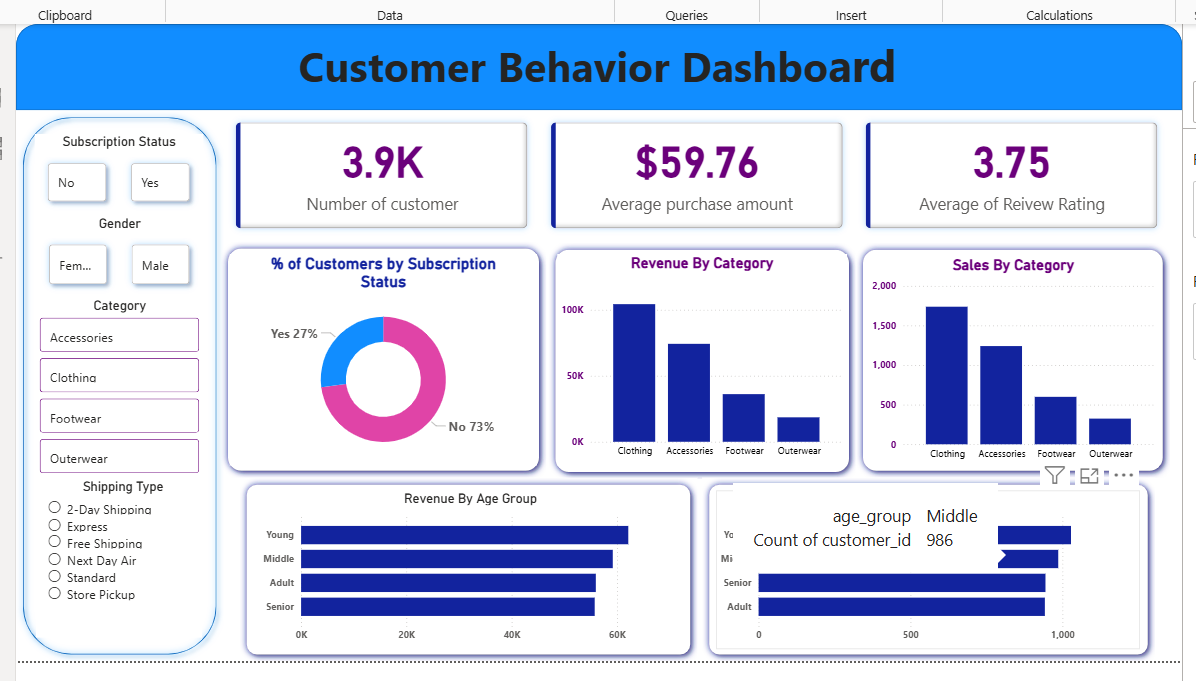

What the dashboard file says about the page in this screenshot:
{"tool":"powerbi","page":{"name":"Page 1","canvas":[1500,820],"ordinal":0},"visuals":[{"type":"cardVisual","fields":{"Data":["cleaned_data.Number of customer","cleaned_data.Average purchase amount","cleaned_data.Average of Reivew Rating"]},"box":[266.9,111,1217.3,168.8],"z":0},{"type":"shape","box":[0,0,1500.3,111],"z":1000},{"type":"textbox","box":[30.6,9.6,1434.4,101.3],"z":2000},{"type":"shape","box":[263.7,279.8,418.1,303.9],"z":3000},{"type":"donutChart","title":"% of Customers by Subscription Status","fields":{"Category":["cleaned_data.subscription_status"],"Y":["CountNonNull(cleaned_data.customer_id)"]},"box":[275,295.9,395.6,271.8],"z":4000},{"type":"shape","box":[685,281.4,395.6,303.9],"z":5000},{"type":"shape","box":[1080.6,281.4,403.6,302.3],"z":6000},{"type":"clusteredColumnChart","title":"Revenue By Category","fields":{"Y":["Sum(cleaned_data.purchase_amount)"],"Category":["cleaned_data.category"]},"box":[696.3,295.9,373.1,271.8],"z":6001},{"type":"clusteredColumnChart","title":"Sales By Category","fields":{"Category":["cleaned_data.category"],"Y":["CountNonNull(cleaned_data.customer_id)"]},"box":[1096.7,299.1,373.1,271.8],"z":6002},{"type":"shape","box":[0,111,266.9,709.2],"z":6003},{"type":"advancedSlicerVisual","title":"Subscription Status","fields":{"Values":["cleaned_data.subscription_status"]},"box":[24.1,141.5,217.1,104.5],"z":6004},{"type":"advancedSlicerVisual","title":" Gender","fields":{"Values":["cleaned_data.gender"]},"box":[25.7,246,215.5,106.1],"z":6005},{"type":"advancedSlicerVisual","title":"Category","fields":{"Values":["cleaned_data.category"]},"box":[25.7,352.2,215.5,233.2],"z":6006},{"type":"listSlicer","title":"Shipping Type","fields":{"Values":["cleaned_data.shipping_type"]},"box":[25.7,585.3,213.9,204.2],"z":6007},{"type":"shape","box":[287.8,583.7,588.6,236.4],"z":6008},{"type":"clusteredBarChart","title":"Revenue By Age Group","fields":{"Y":["Sum(cleaned_data.purchase_amount)"],"Category":["cleaned_data.age_group"]},"box":[312,599.8,545.1,204.2],"z":6009},{"type":"shape","box":[882.8,583.7,582.1,236.4],"z":6010},{"type":"shape","box":[882.8,583.6,582.1,236.4],"z":6011},{"type":"clusteredBarChart","title":"Sales By Age Group","fields":{"Category":["cleaned_data.age_group"],"Y":["CountNonNull(cleaned_data.customer_id)"]},"box":[900.5,599.8,545.1,204.2],"z":6012}]}

Visuals, with their boxes in screenshot pixels (x1, y1, x2, y2):
cardVisual - cleaned_data.Number of customer x cleaned_data.Average purchase amount: 219, 106, 1176, 239
shape: 9, 19, 1189, 106
textbox: 33, 26, 1161, 106
shape: 217, 239, 545, 478
"% of Customers by Subscription Status" donutChart: 226, 251, 537, 465
shape: 548, 240, 859, 479
shape: 859, 240, 1176, 478
"Revenue By Category" clusteredColumnChart: 557, 251, 850, 465
"Sales By Category" clusteredColumnChart: 872, 254, 1165, 468
shape: 9, 106, 219, 664
"Subscription Status" advancedSlicerVisual: 28, 130, 199, 212
" Gender" advancedSlicerVisual: 30, 212, 199, 296
"Category" advancedSlicerVisual: 30, 296, 199, 479
"Shipping Type" listSlicer: 30, 479, 198, 639
shape: 236, 478, 698, 664
"Revenue By Age Group" clusteredBarChart: 255, 490, 683, 651
shape: 703, 478, 1161, 664
shape: 703, 478, 1161, 663
"Sales By Age Group" clusteredBarChart: 717, 490, 1146, 651
